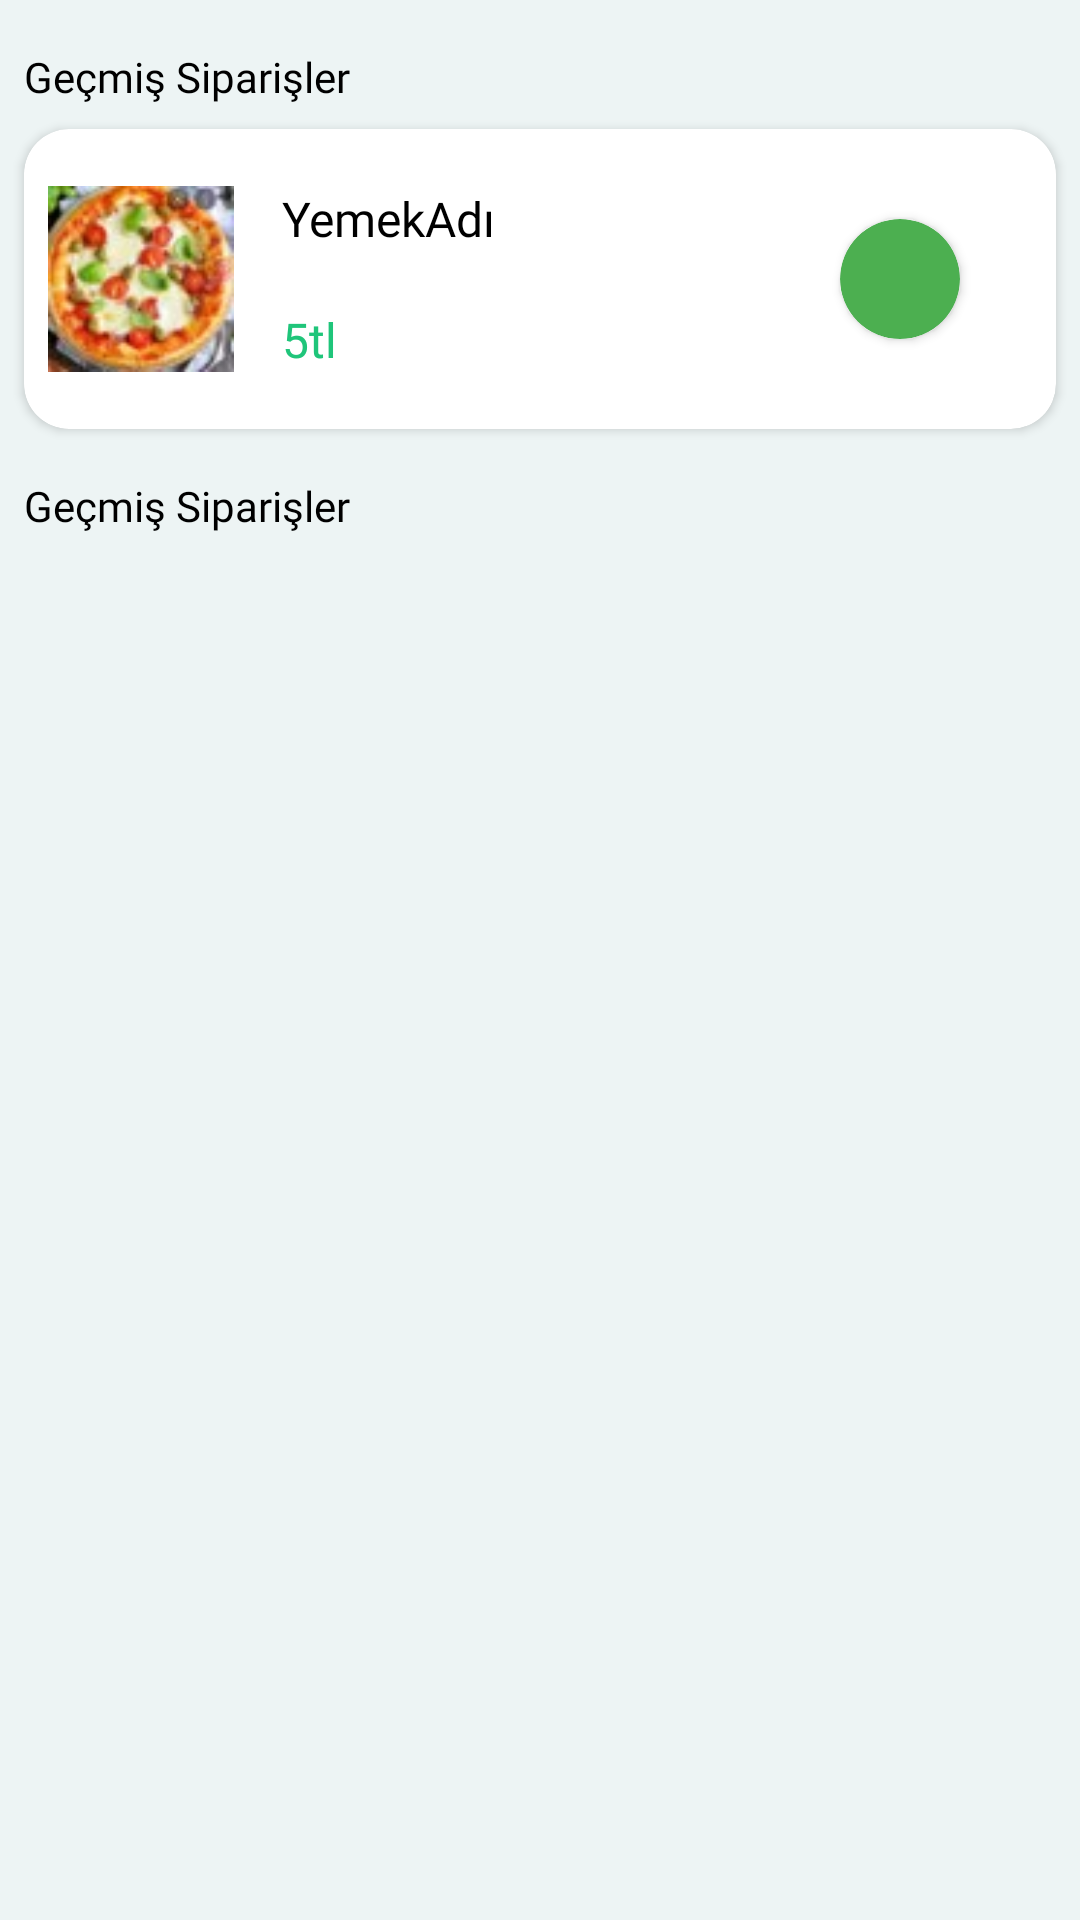

Where icons sit on this 1080 × 1920 app screen, as (x1, y1, x2, y2):
pizza: (48, 186, 234, 372)
